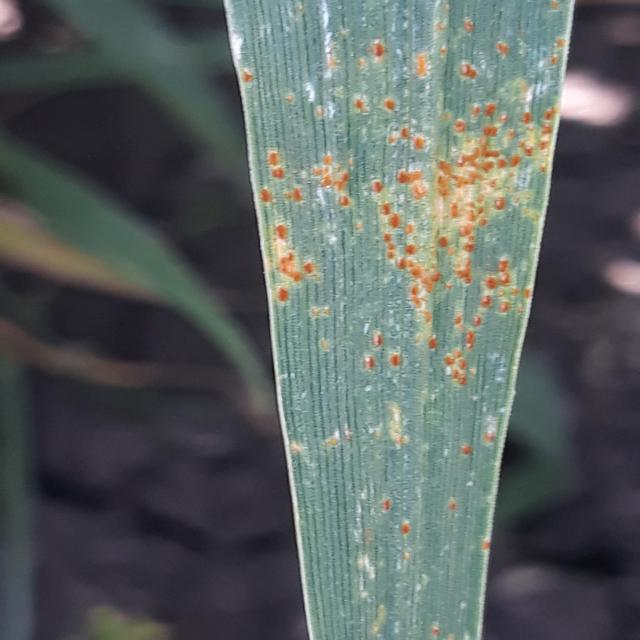orang_rust: (201, 2, 578, 640)
